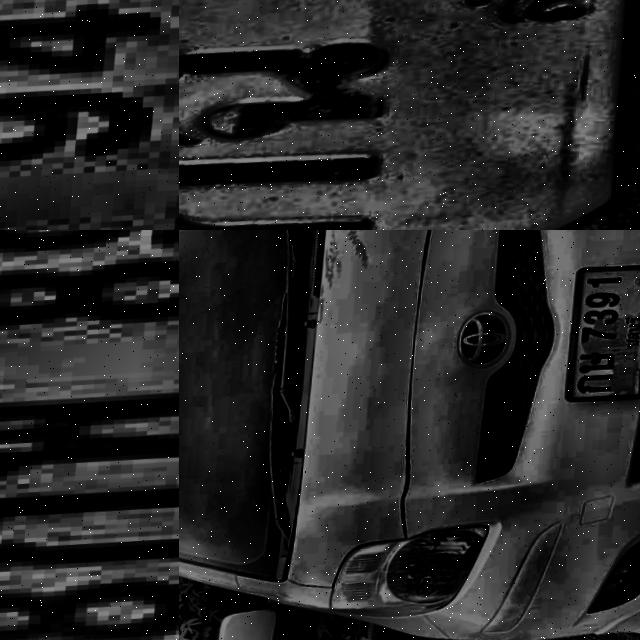license-plate: (179, 0, 640, 230), (0, 230, 179, 640), (0, 0, 179, 230), (566, 270, 640, 411)
